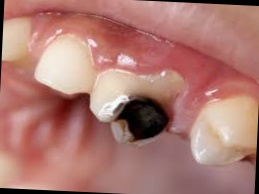Caries: (102, 88, 172, 141)
